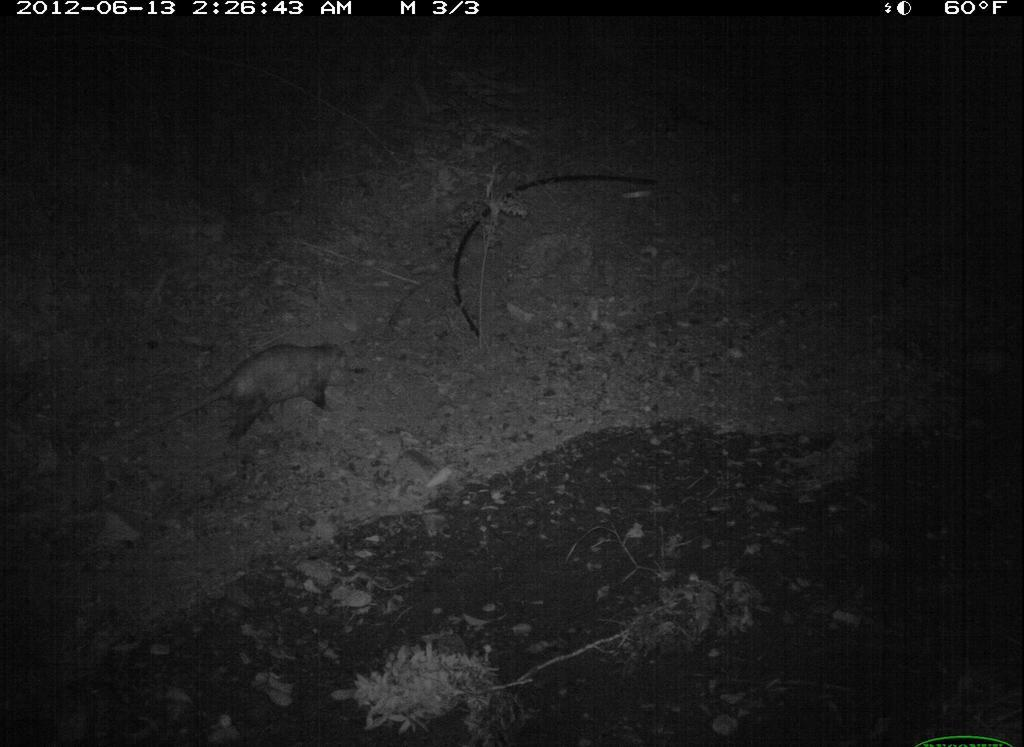opossum: (167, 332, 356, 455)
